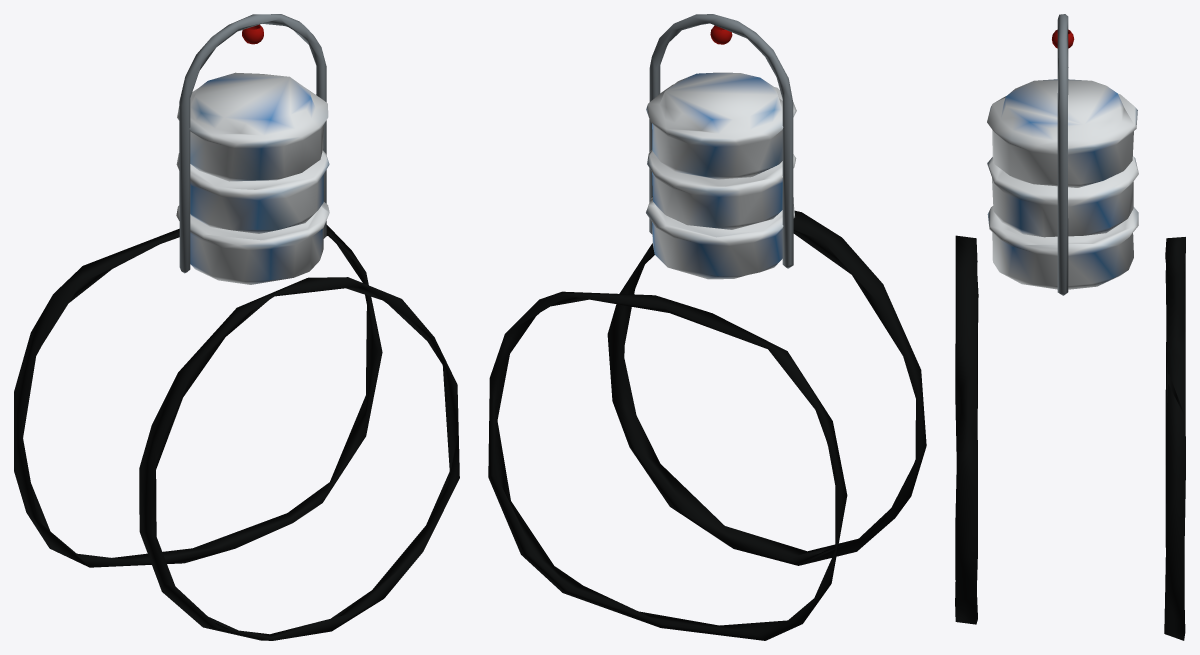
The model's file is camen.glb.
3 views of the same model, side by side, from view 1: azimuth 30°, elevation 25°; view 2: azimuth 150°, elevation 25°; view 3: azimuth 270°, elevation 25° (orthographic). The views are drawn at different scales.
Visible parts, largest first — view 1: Ca_Men, Day_Buoc, Khung_Cam; view 2: Day_Buoc, Ca_Men, Khung_Cam; view 3: Ca_Men, Day_Buoc, Khung_Cam.
Boxes of the visible parts, x1=… form: Ca_Men: x1=176, y1=72, x2=329, y2=284; Day_Buoc: x1=14, y1=225, x2=459, y2=640; Khung_Cam: x1=179, y1=14, x2=326, y2=273; Day_Buoc: x1=488, y1=210, x2=926, y2=640; Ca_Men: x1=646, y1=72, x2=796, y2=279; Khung_Cam: x1=649, y1=14, x2=793, y2=268; Ca_Men: x1=987, y1=79, x2=1138, y2=289; Day_Buoc: x1=955, y1=235, x2=1185, y2=640; Khung_Cam: x1=1057, y1=14, x2=1068, y2=295.
Size of the model in its own units: 0.2601 by 0.4015 by 0.1438.
